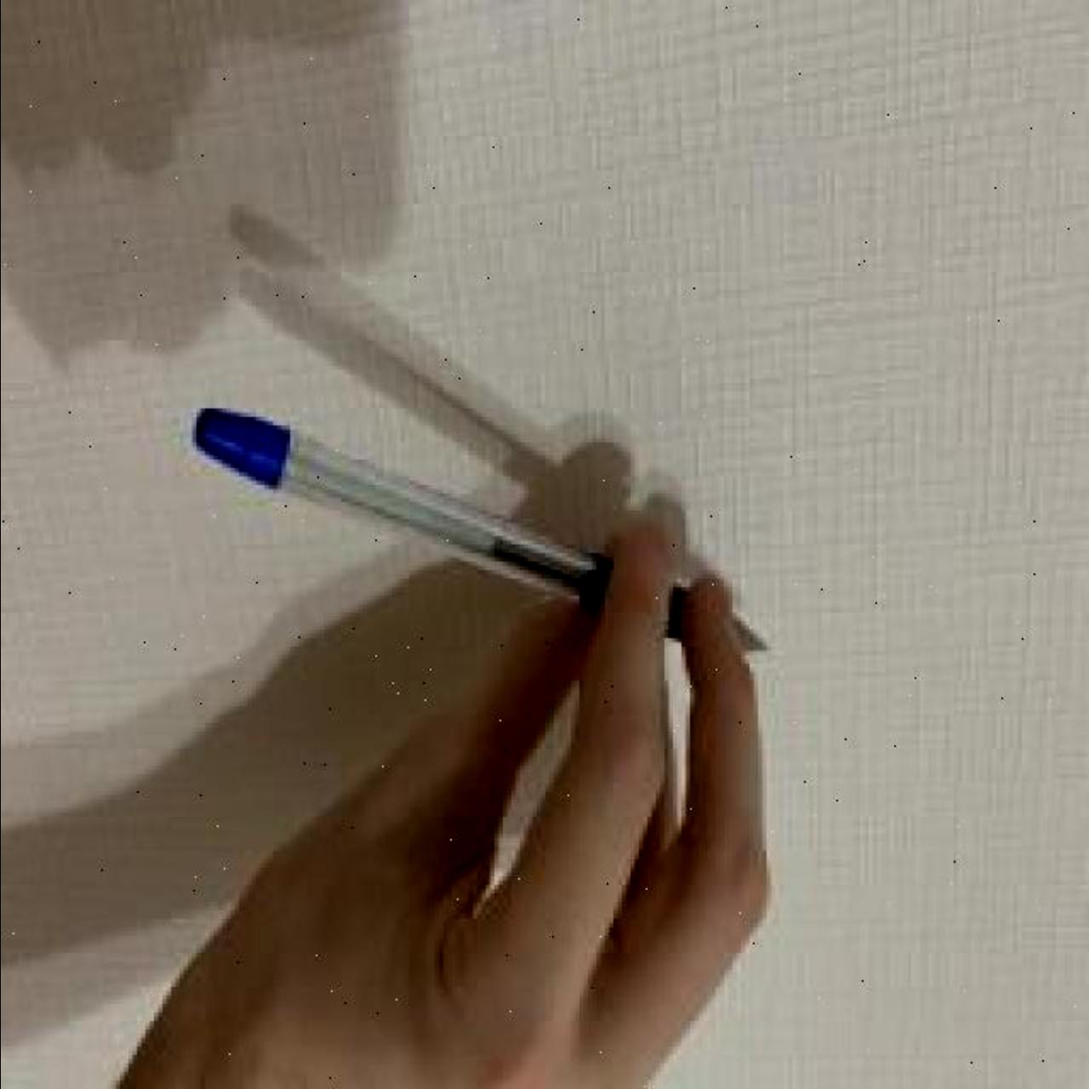pen: (187, 400, 766, 660)
